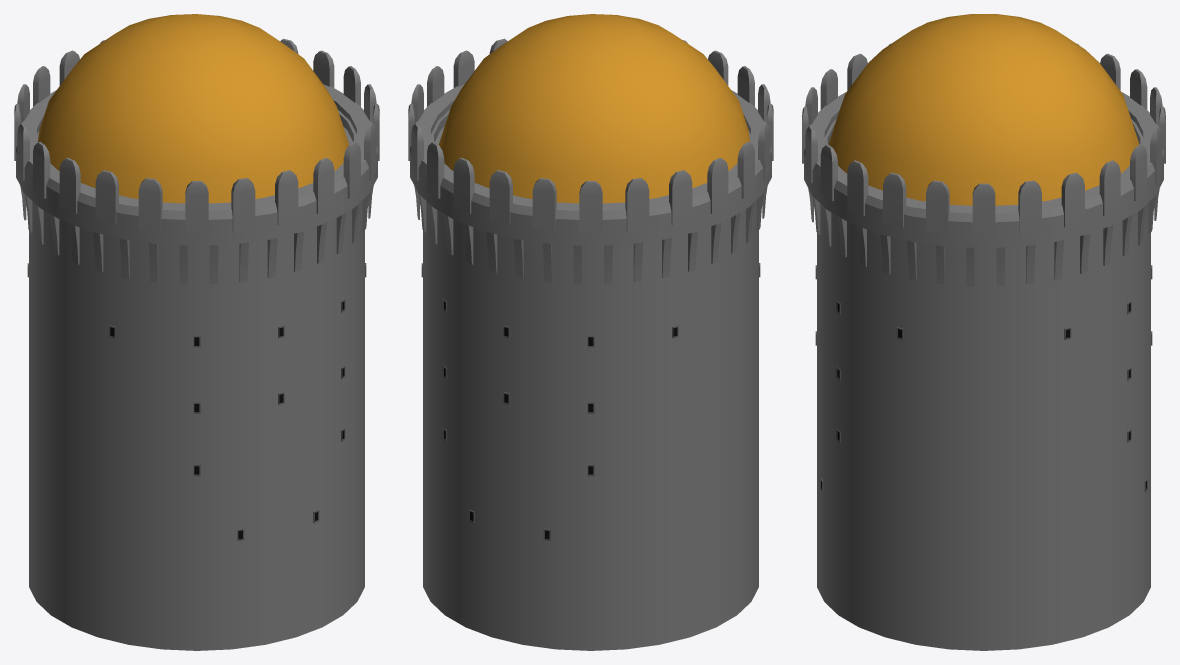
Rendered from SM_tower_corner_dome.fbx.
3 views of the same model, side by side, from view 1: azimuth 30°, elevation 25°; view 2: azimuth 150°, elevation 25°; view 3: azimuth 270°, elevation 25° (orthographic).
Visible parts, largest first — view 1: Cylinder083; view 2: Cylinder083; view 3: Cylinder083.
Part boxes in pixels (x1=…): Cylinder083: x1=14, y1=14, x2=379, y2=650; Cylinder083: x1=408, y1=14, x2=773, y2=650; Cylinder083: x1=802, y1=14, x2=1165, y2=650.
Bounding box in the file's own units: 428 × 428 × 715.
